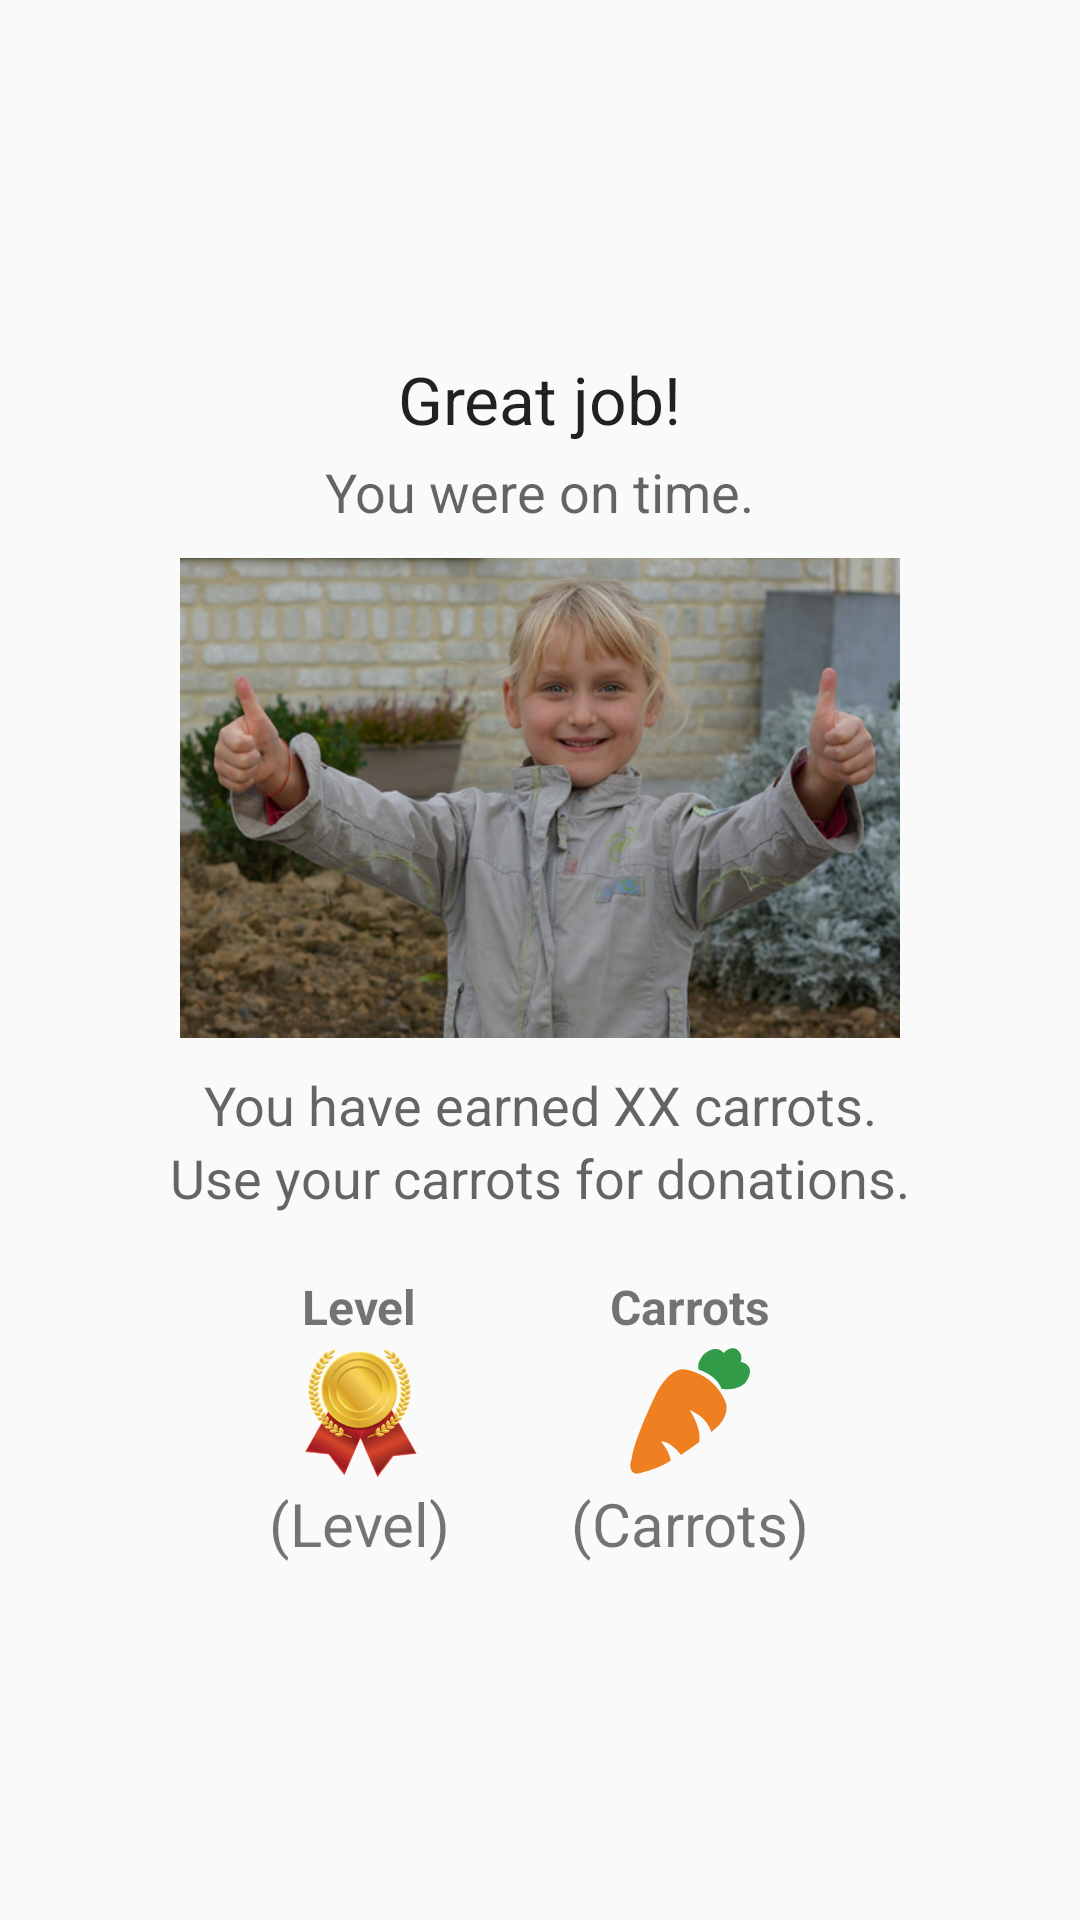

Screen size 1080*1920. Icon name, then its center in pixels as (x,y):
rank: (361,1413)
